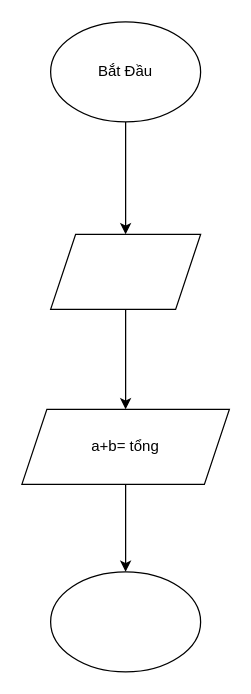
Some shapes in this 251 by 694 pixel diagram are drawn without their labels. Each missing label, with the centre of its shape:
"End" goes at [125,621].
"Nhập a,b" goes at [125,271].
